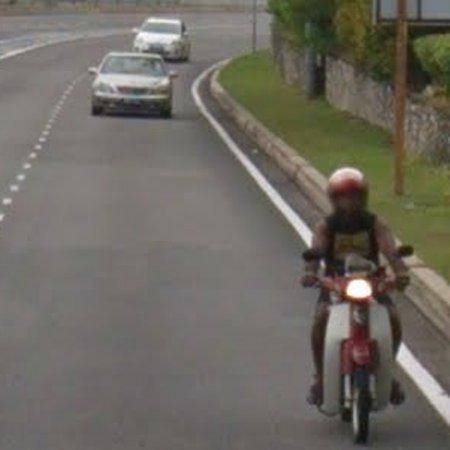motorcycles: (302, 246, 417, 446)
